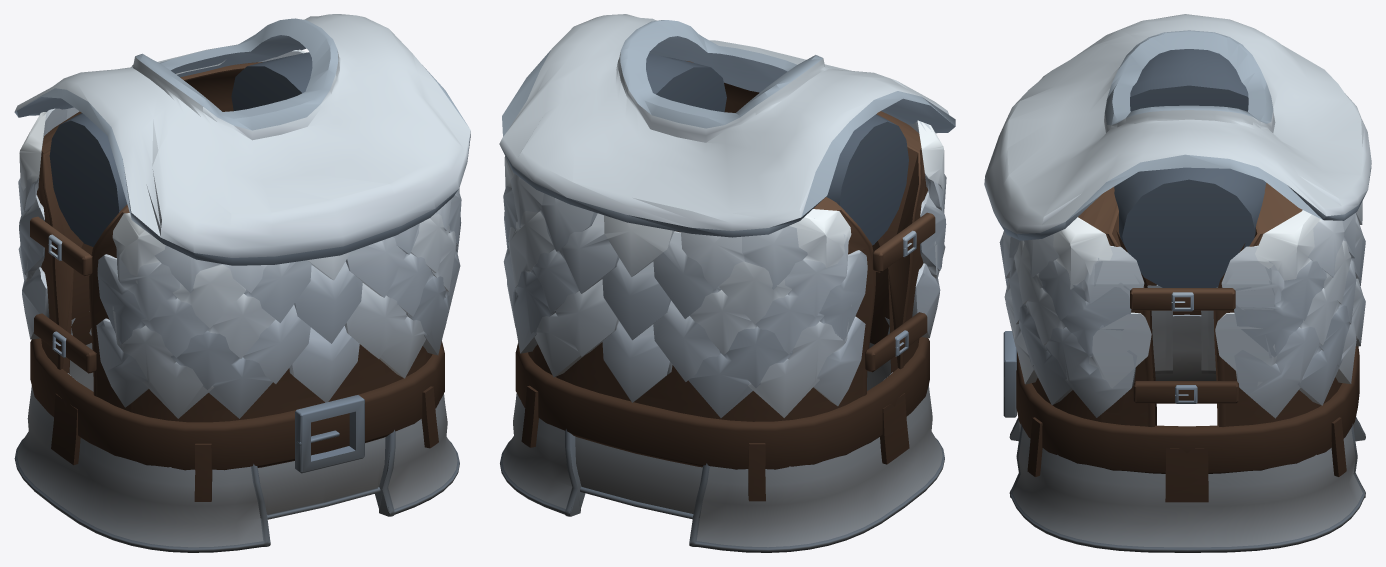
Rendered from scale_mail.glb.
The picture shows the model from 3 angles, left to right: view 1: azimuth 30°, elevation 25°; view 2: azimuth 150°, elevation 25°; view 3: azimuth 270°, elevation 25°; orthographic projection. The views are drawn at different scales.
Parts seen in each view (by area): view 1: Item; view 2: Item; view 3: Item.
Part boxes in pixels (bbox=[...]): Item: bbox=[14, 14, 470, 552]; Item: bbox=[499, 14, 955, 552]; Item: bbox=[984, 14, 1371, 552].
Size of the model in its own units: 0.8619 by 0.9179 by 0.8075.
Materials: 3 (3 with a texture image).
